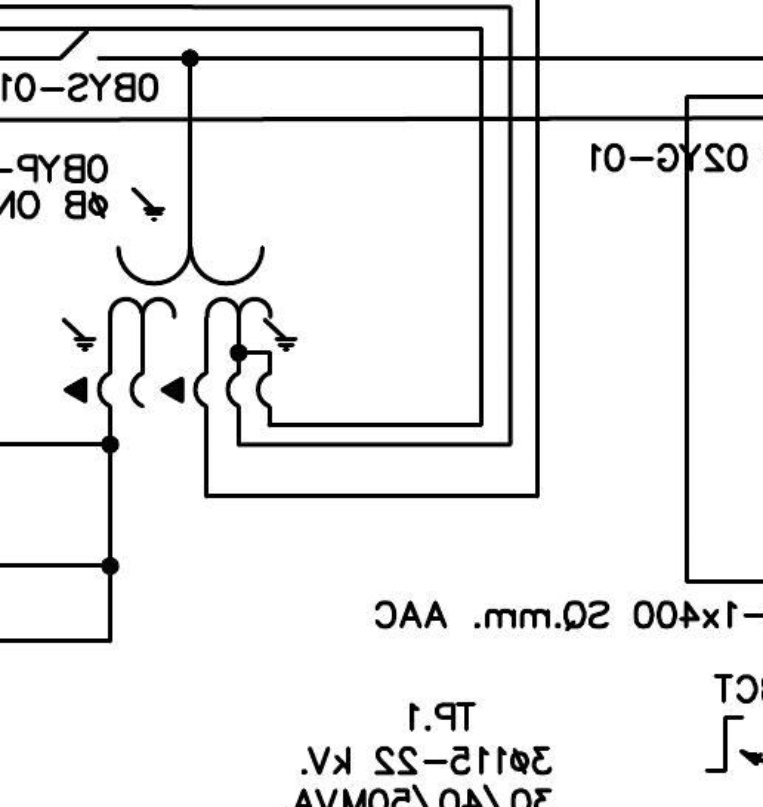115_ds: (59, 31, 103, 62)
115_vt_1p: (61, 185, 300, 409)
